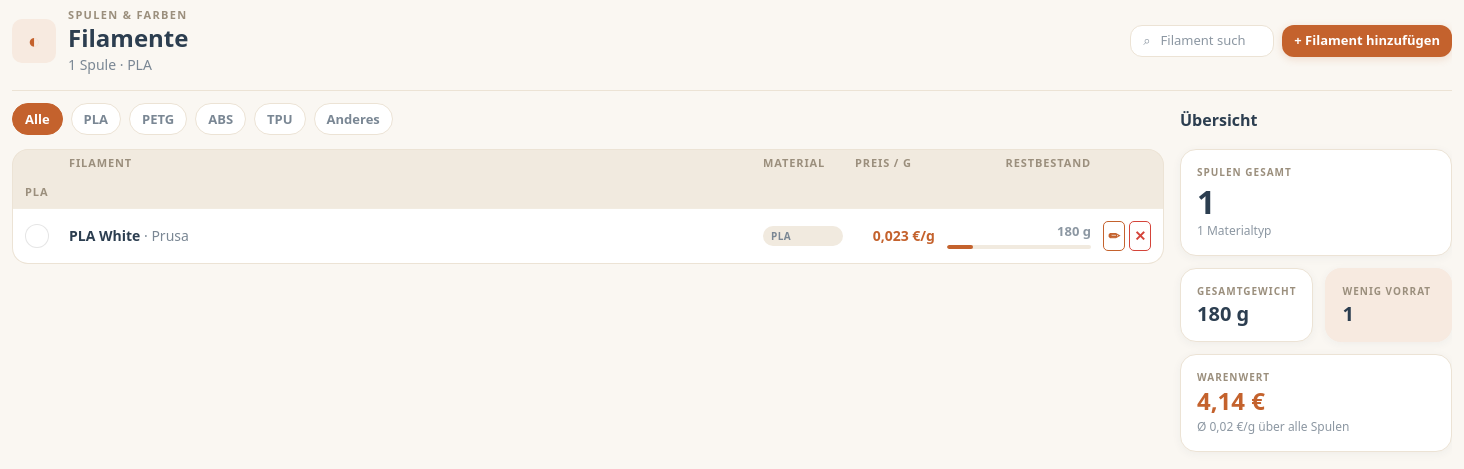
FilamentsComponent › soft-deletes a filament directly without confirmation dialog
Click the button with test id "delete-filament" at point(1140, 236), box [1129,221,1151,251]
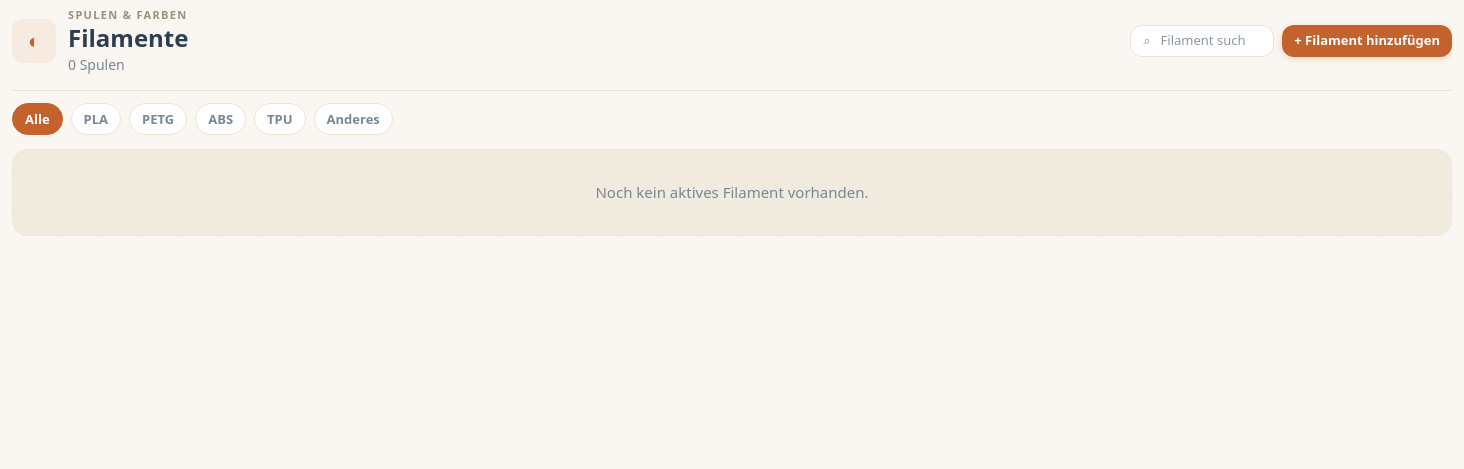
Result: the text "PLA White" is gone
